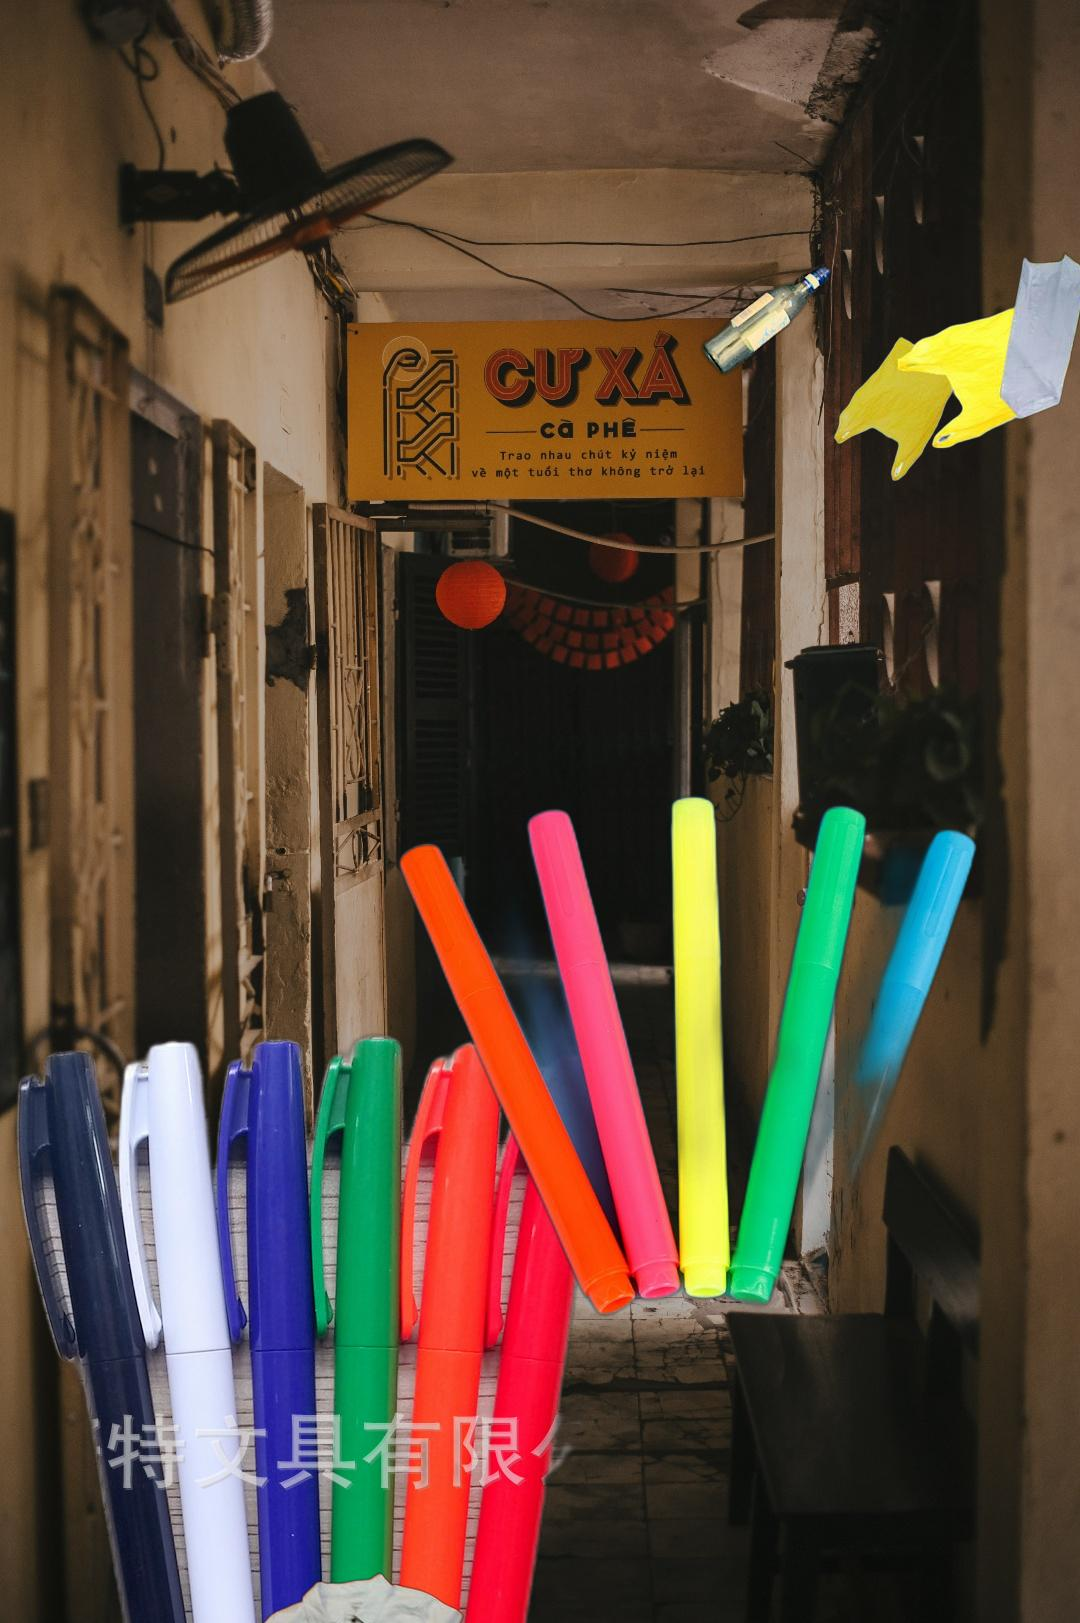clothes: (158, 1570, 522, 1623)
glass: (697, 261, 835, 381)
penholder: (8, 1027, 683, 1623), (393, 761, 984, 1336), (153, 1394, 521, 1623)
plastic-bag: (830, 248, 1080, 484)
